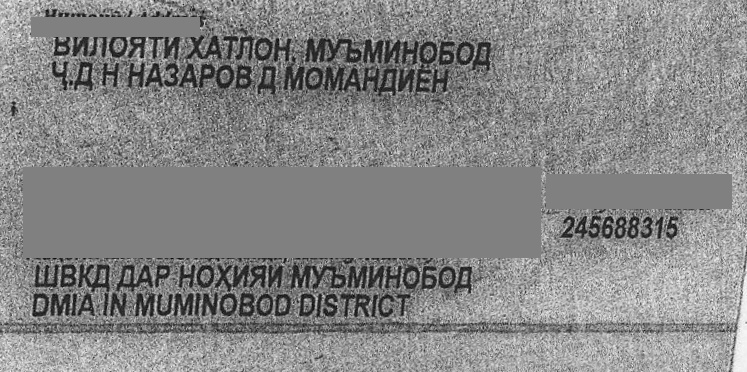1: (653, 211, 669, 241)
2: (560, 211, 580, 241)
3: (639, 211, 657, 241)
4: (571, 211, 591, 241)
5: (663, 211, 683, 241), (586, 211, 604, 241)
6: (599, 211, 617, 241)
8: (613, 211, 631, 241), (626, 211, 644, 241)
А: (204, 24, 224, 68), (146, 53, 166, 97), (342, 57, 362, 101), (179, 54, 197, 98), (135, 258, 155, 296)
Б: (438, 29, 458, 73), (419, 258, 439, 296)
В: (51, 21, 71, 65), (56, 258, 78, 296), (233, 55, 251, 99)
Д: (75, 52, 103, 96), (92, 258, 118, 296), (380, 57, 400, 101), (115, 258, 137, 296), (474, 30, 490, 74), (259, 55, 275, 99), (458, 258, 474, 296)
Е: (414, 58, 434, 102)
З: (163, 53, 181, 97)
И: (69, 21, 89, 65), (383, 28, 403, 72), (396, 58, 414, 102), (367, 258, 387, 296), (230, 258, 248, 296), (268, 258, 282, 296), (166, 23, 174, 67)
К: (76, 258, 94, 296)
Л: (88, 21, 108, 65), (238, 25, 252, 69)
М: (281, 258, 309, 296), (300, 26, 324, 70), (359, 28, 381, 72), (321, 56, 343, 100), (283, 56, 303, 100), (344, 258, 366, 296)
Н: (122, 53, 146, 97), (431, 58, 455, 102), (272, 26, 292, 70), (360, 57, 380, 101), (174, 258, 196, 296), (401, 29, 419, 73), (97, 52, 113, 96), (382, 258, 400, 296)
О: (109, 22, 129, 66), (251, 25, 271, 69), (418, 29, 438, 73), (214, 54, 234, 98), (301, 56, 321, 100), (455, 30, 473, 74), (192, 258, 212, 296), (401, 258, 421, 296), (438, 258, 458, 296)
Р: (197, 54, 215, 98), (155, 258, 171, 296)
Т: (152, 23, 168, 67), (227, 25, 243, 69)
У: (322, 27, 342, 71), (311, 258, 331, 296)
Х: (186, 24, 206, 68)
Ч: (52, 52, 76, 96)
Ш: (32, 258, 56, 296)
Ъ: (343, 27, 363, 71), (326, 258, 344, 296)
Я: (125, 22, 147, 66), (249, 258, 269, 296)
Ҳ: (215, 258, 235, 296)
